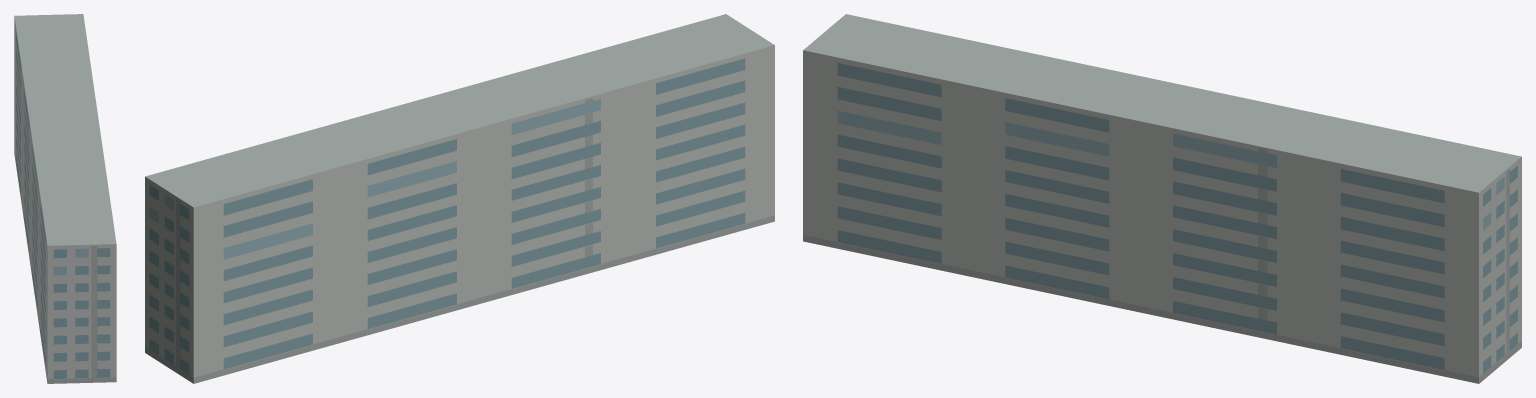
The model's file is residential-232c6199-5fea-40c2-b14f-d26885fa894f.glb.
3 views of the same model, side by side, from view 1: azimuth 30°, elevation 25°; view 2: azimuth 150°, elevation 25°; view 3: azimuth 270°, elevation 25° (orthographic). The views are drawn at different scales.
Visible parts, largest first — view 1: residential-232c6199-5fea-40c2-b14f-d26885fa894f.tmp; view 2: residential-232c6199-5fea-40c2-b14f-d26885fa894f.tmp; view 3: residential-232c6199-5fea-40c2-b14f-d26885fa894f.tmp.
Part boxes in pixels (x1,y1,x2,y2): residential-232c6199-5fea-40c2-b14f-d26885fa894f.tmp: (14,14,116,383); residential-232c6199-5fea-40c2-b14f-d26885fa894f.tmp: (145,14,774,383); residential-232c6199-5fea-40c2-b14f-d26885fa894f.tmp: (803,14,1521,383).
Bounding box in the file's own units: 48.93 × 24.4 × 83.13.
